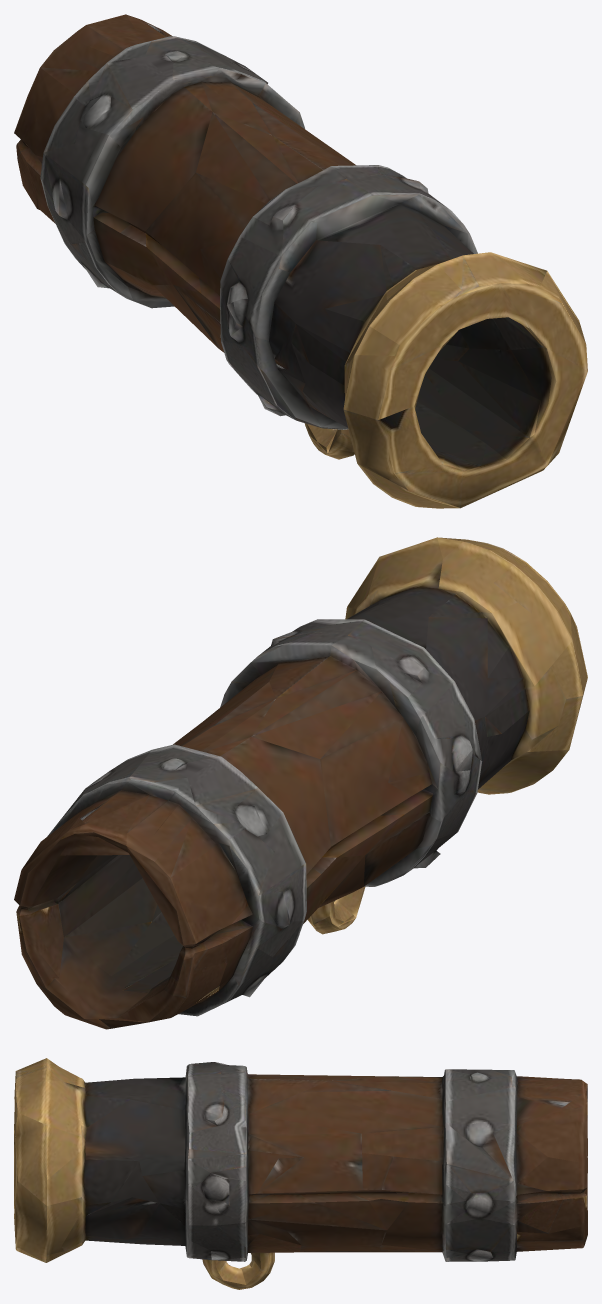
File: minion_cannon.glb
The picture shows the model from 3 angles, top to bottom: view 1: azimuth 30°, elevation 25°; view 2: azimuth 150°, elevation 25°; view 3: azimuth 270°, elevation 25°; orthographic projection. The views are drawn at different scales.
Bounding box in the file's own units: 0.3754 × 0.4418 × 1.04.
1 material, 1 textured.
